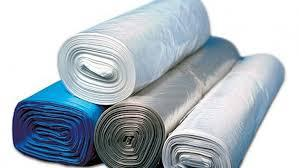Plastic: (104, 36, 242, 167), (62, 0, 212, 107), (160, 52, 290, 167), (12, 70, 96, 164)
